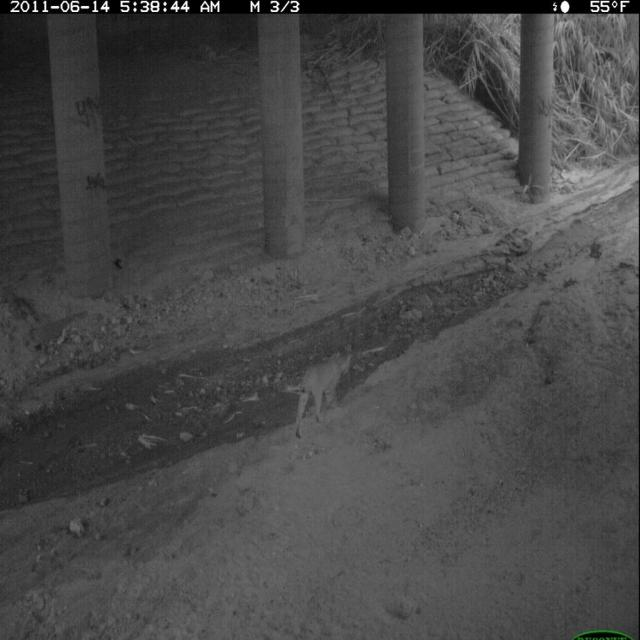bobcat: (292, 346, 356, 446)
